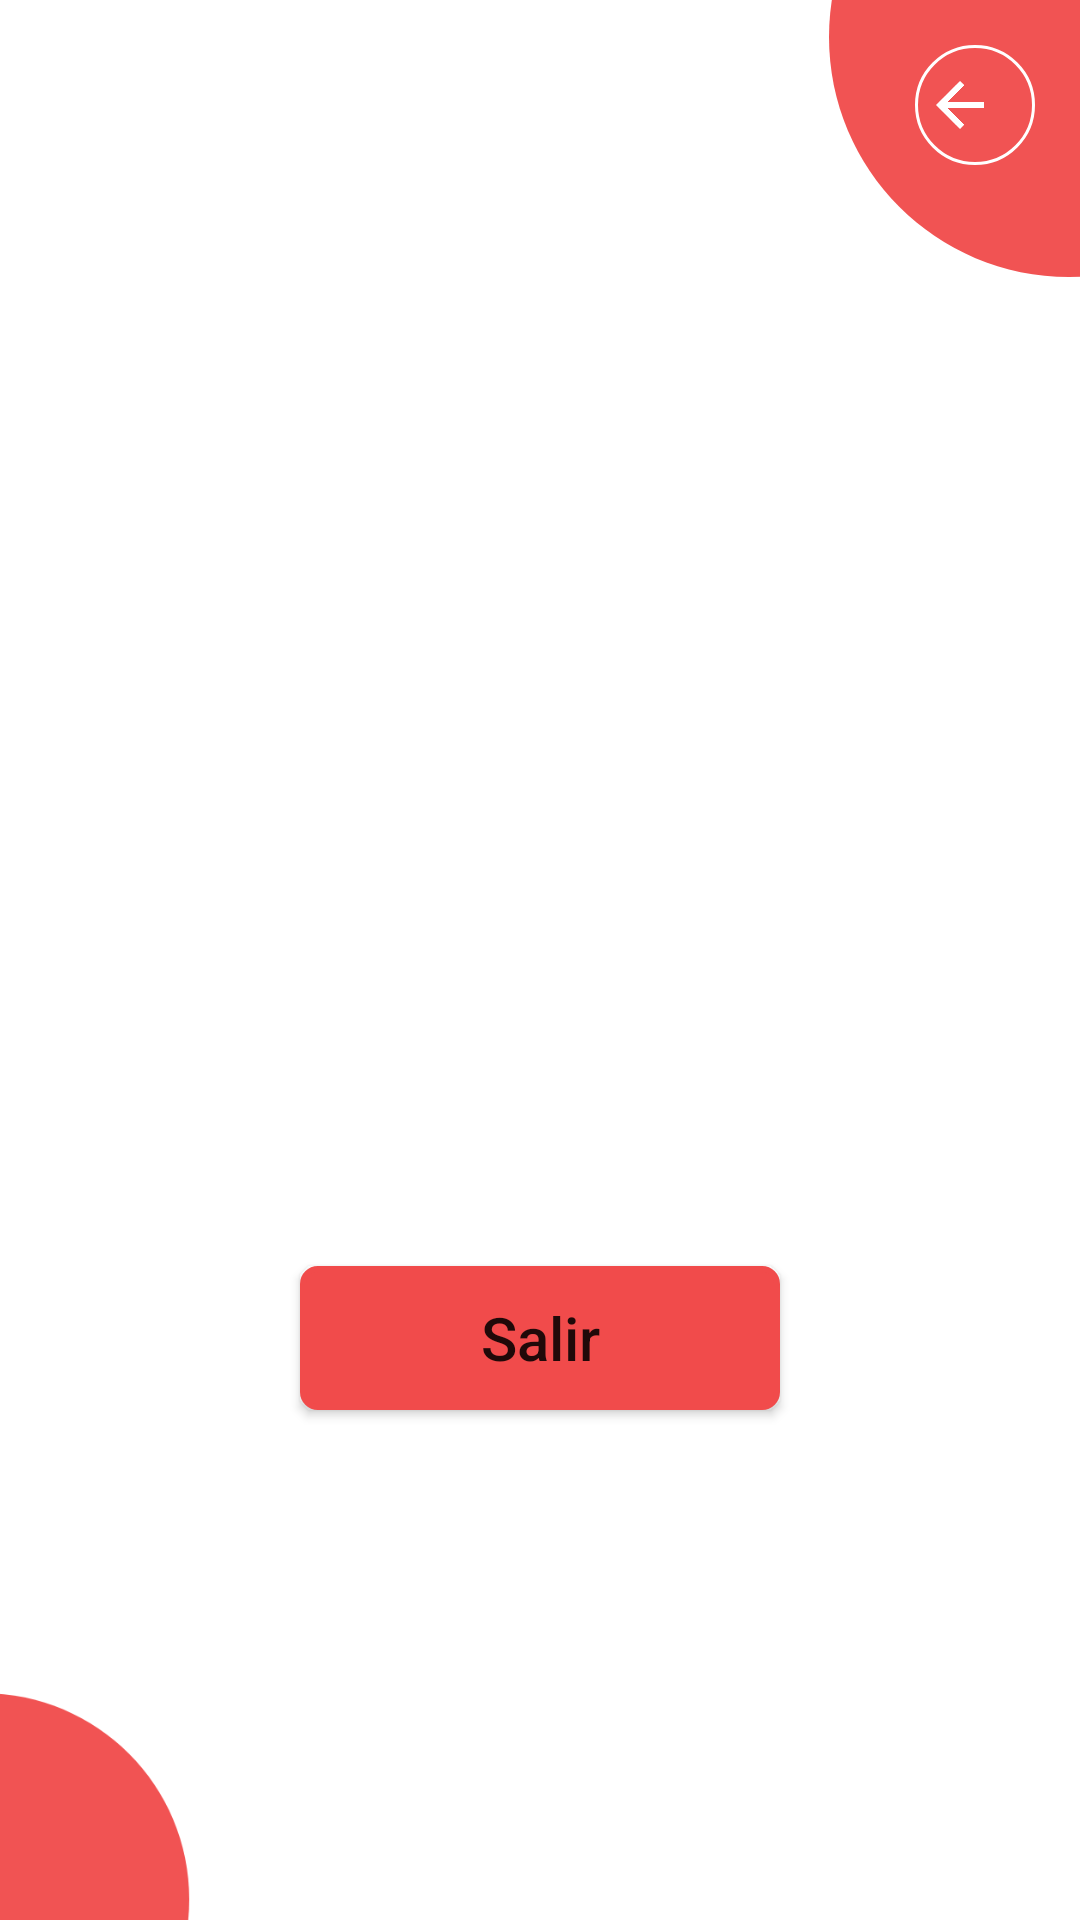

Locate icon controls on the screen. Image size 1080px x 1920px, boxes as Rect(x1, y1, x2, y2).
back: Rect(915, 45, 1035, 165)
